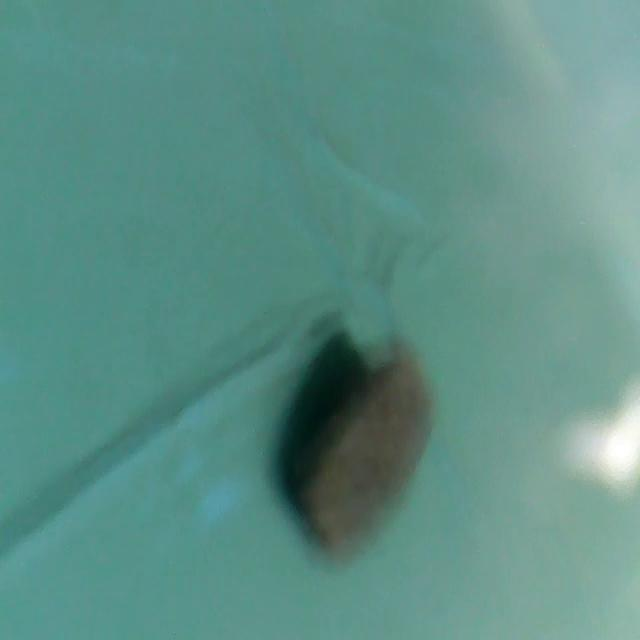rock: (281, 339, 443, 549)
